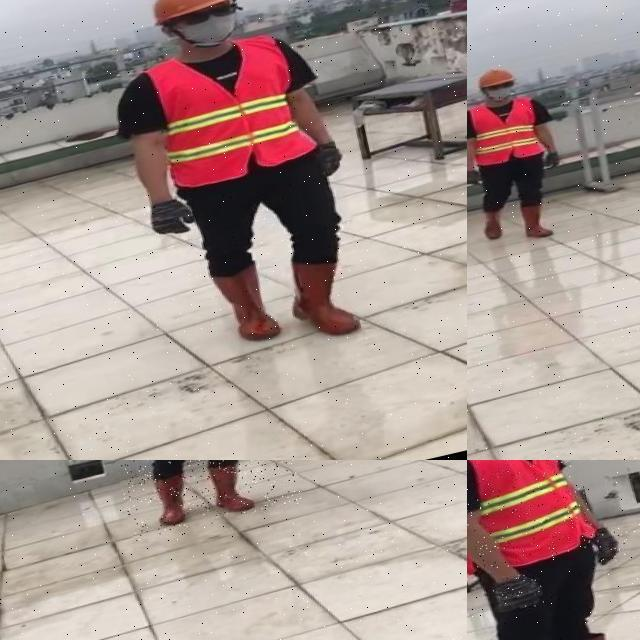boots: (280, 247, 363, 344), (204, 258, 288, 350), (200, 460, 255, 518), (148, 473, 192, 528), (518, 198, 558, 241), (476, 207, 505, 241)
helmet: (137, 0, 240, 28), (472, 62, 516, 90)
vest: (134, 30, 318, 191), (467, 460, 598, 585), (467, 93, 547, 167)
